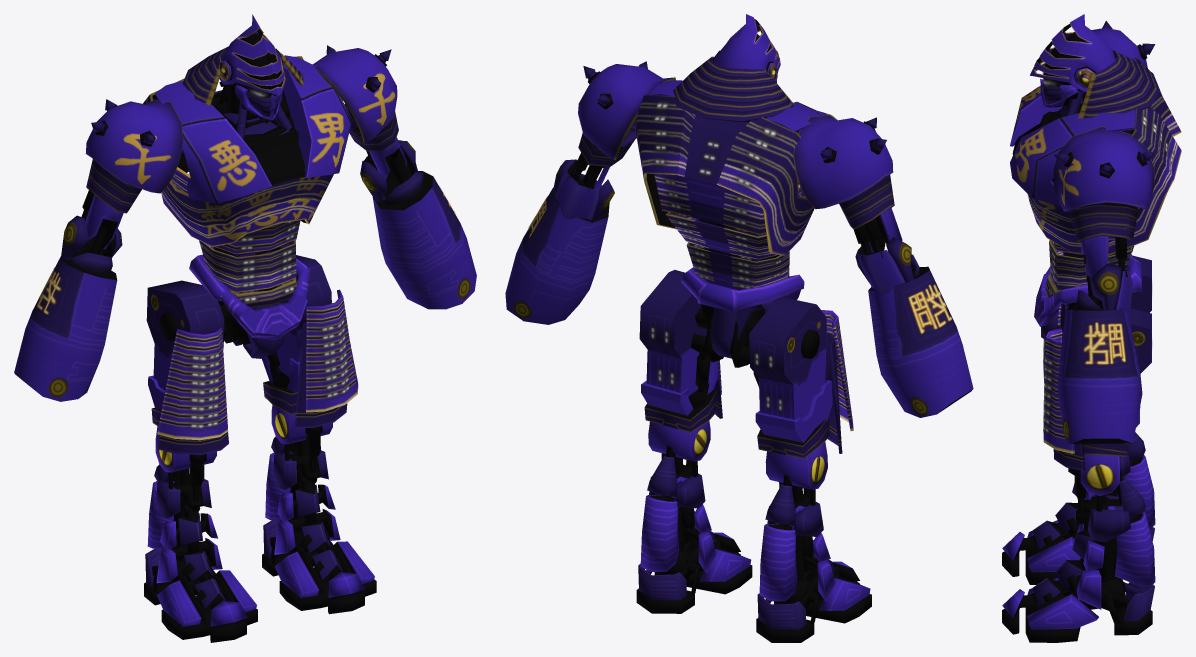
File: noisy_boy.glb
3 views of the same model, side by side, from view 1: azimuth 30°, elevation 25°; view 2: azimuth 150°, elevation 25°; view 3: azimuth 270°, elevation 25° (orthographic).
Visible parts, largest first — view 1: UpperSpine_19, L_Thigh.002_33, L_Forearm.001_5, L_Forearm_12, L_UpperArm.001_8, L_Thigh_42, L_Calf_40, L_Calf.002_31, L_UpperArm_15, L_Toe_36, L_Toe.002_27, Head_0 (+6 smaller); view 2: UpperSpine_19, L_Thigh.002_33, L_Forearm.001_5, L_Forearm_12, L_UpperArm.001_8, L_Thigh_42, L_Calf.002_31, L_Calf_40, Head_0, L_UpperArm_15, Pelvis_25, LowerSpine_23 (+6 smaller); view 3: L_Forearm_12, UpperSpine_19, L_UpperArm_15, L_Calf_40, Head_0, L_Toe_36, L_Thigh_42, L_Toe.002_27, L_Foot_38, Pelvis_25, L_Calf.002_31, L_Forearm_LCD_13 (+4 smaller).
Boxes of the visible parts, x1,y1,x2,y2 form: UpperSpine_19: (143, 55, 351, 246); L_Thigh.002_33: (146, 280, 228, 454); L_Forearm.001_5: (14, 215, 122, 401); L_Forearm_12: (360, 140, 476, 309); L_UpperArm.001_8: (81, 99, 183, 254); L_Thigh_42: (261, 255, 358, 427); L_Calf_40: (265, 405, 340, 554); L_Calf.002_31: (147, 426, 222, 583); L_UpperArm_15: (312, 45, 408, 184); L_Toe_36: (275, 521, 376, 614); L_Toe.002_27: (157, 550, 257, 642); Head_0: (182, 14, 303, 120); UpperSpine_19: (635, 80, 837, 255); L_Thigh.002_33: (749, 297, 853, 458); L_Forearm.001_5: (855, 237, 973, 417); L_Forearm_12: (505, 159, 614, 324); L_UpperArm.001_8: (793, 115, 902, 260); L_Thigh_42: (639, 270, 722, 432); L_Calf.002_31: (759, 441, 835, 601); L_Calf_40: (640, 421, 716, 573); Head_0: (673, 14, 793, 122); L_UpperArm_15: (567, 61, 675, 193); Pelvis_25: (681, 267, 804, 367); LowerSpine_23: (686, 242, 789, 290); L_Forearm_12: (1058, 264, 1142, 443); UpperSpine_19: (1010, 57, 1181, 255); L_UpperArm_15: (1053, 126, 1154, 306); L_Calf_40: (1068, 454, 1155, 609); Head_0: (1030, 14, 1159, 118); L_Toe_36: (1002, 560, 1110, 642); L_Thigh_42: (1043, 305, 1152, 471); L_Toe.002_27: (1002, 502, 1080, 584); L_Foot_38: (1101, 575, 1154, 635); Pelvis_25: (1034, 254, 1142, 340); L_Calf.002_31: (1072, 432, 1155, 532); L_Forearm_LCD_13: (1083, 322, 1126, 364).
Bounding box in the file's own units: 3.35 × 4.17 × 1.16.
Materials: 6 (6 with a texture image).
